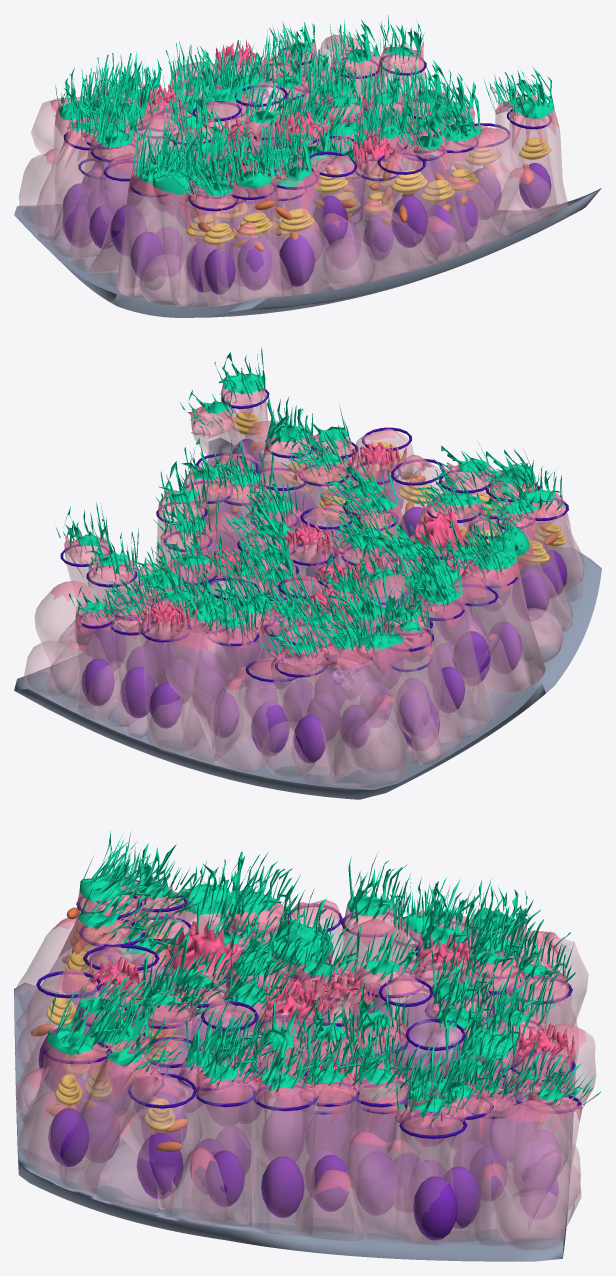
Rendered from epithelium.glb.
The picture shows the model from 3 angles, top to bottom: view 1: azimuth 30°, elevation 25°; view 2: azimuth 150°, elevation 25°; view 3: azimuth 270°, elevation 25°; orthographic projection. The views are drawn at different scales.
Parts seen in each view (by area): view 1: cz-basolateral, cz-cilia, cz-nucleus, cz-apical, cz-basement, cz-golgi, cz-junctions, cz-microvilli, cz-mito; view 2: cz-basolateral, cz-cilia, cz-apical, cz-nucleus, cz-basement, cz-junctions, cz-microvilli, cz-golgi, cz-mito; view 3: cz-basolateral, cz-cilia, cz-apical, cz-nucleus, cz-basement, cz-junctions, cz-microvilli, cz-golgi, cz-mito.
Part boxes in pixels (x1=…): cz-basolateral: x1=19, y1=39, x2=568, y2=307; cz-cilia: x1=55, y1=15, x2=554, y2=198; cz-nucleus: x1=62, y1=103, x2=551, y2=294; cz-apical: x1=43, y1=34, x2=559, y2=242; cz-basement: x1=14, y1=157, x2=601, y2=317; cz-golgi: x1=186, y1=137, x2=551, y2=245; cz-junctions: x1=64, y1=47, x2=551, y2=211; cz-microvilli: x1=139, y1=39, x2=402, y2=192; cz-mito: x1=190, y1=161, x2=533, y2=251; cz-basolateral: x1=24, y1=388, x2=584, y2=788; cz-cilia: x1=56, y1=348, x2=565, y2=668; cz-apical: x1=50, y1=384, x2=569, y2=710; cz-nucleus: x1=75, y1=439, x2=567, y2=763; cz-basement: x1=14, y1=437, x2=601, y2=799; cz-junctions: x1=60, y1=388, x2=568, y2=682; cz-microvilli: x1=134, y1=440, x2=462, y2=633; cz-golgi: x1=210, y1=412, x2=567, y2=564; cz-mito: x1=206, y1=442, x2=557, y2=571; cz-basolateral: x1=15, y1=899, x2=596, y2=1249; cz-cilia: x1=47, y1=830, x2=600, y2=1126; cz-apical: x1=24, y1=867, x2=597, y2=1196; cz-nucleus: x1=38, y1=950, x2=561, y2=1240; cz-basement: x1=14, y1=983, x2=575, y2=1261; cz-junctions: x1=36, y1=880, x2=581, y2=1138; cz-microvilli: x1=89, y1=921, x2=574, y2=1093; cz-golgi: x1=46, y1=915, x2=175, y2=1131; cz-mito: x1=31, y1=907, x2=187, y2=1152.
Size of the model in its own units: 14 by 7.46 by 13.77.
